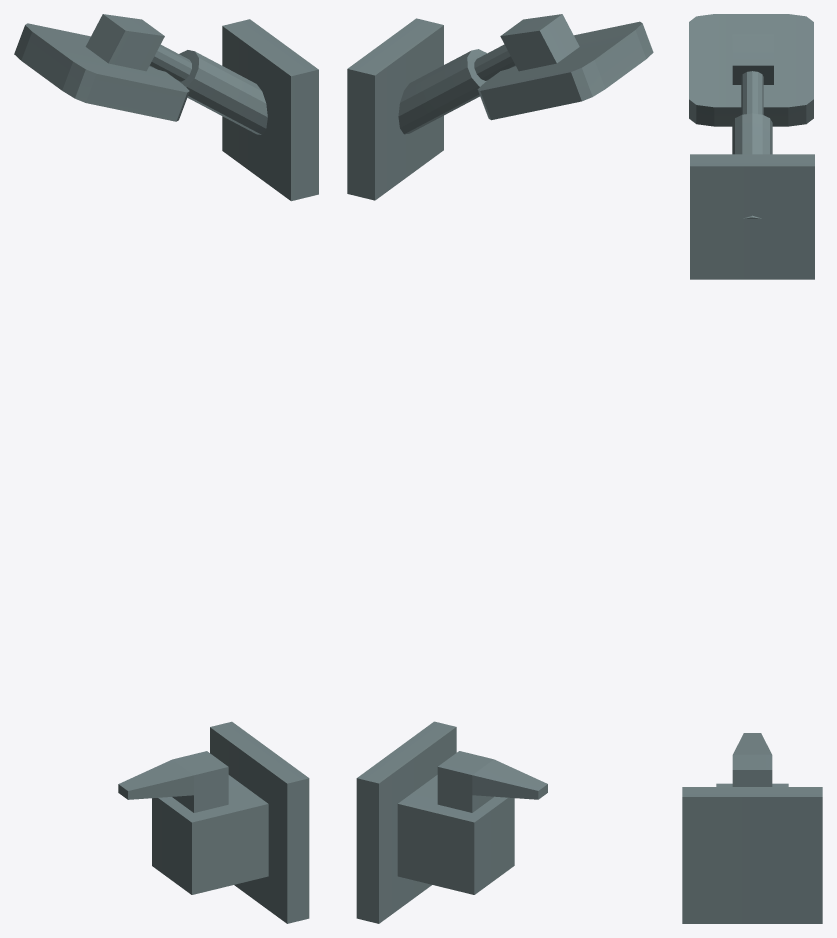
File: Shower.fbx
3 views of the same model, side by side, from view 1: azimuth 30°, elevation 25°; view 2: azimuth 150°, elevation 25°; view 3: azimuth 270°, elevation 25° (orthographic). The views are drawn at different scales.
Visible parts, largest first — view 1: Shower; view 2: Shower; view 3: Shower.
Part boxes in pixels (<box>): Shower: <box>14,14,318,923</box>; Shower: <box>347,14,653,923</box>; Shower: <box>682,14,822,923</box>.
Size of the model in its own units: 39.63 by 140 by 21.7.
